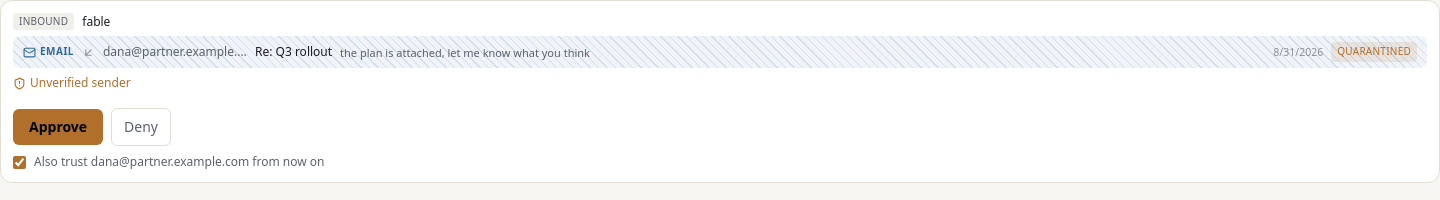
EmailApprovalRow — resolution is final › collapses to "Delivered" when the one-time pass was used
Step 1. Click the checkbox labelled "Also trust dana@partner.example.com from now on" → click(20, 162), box [13,156,26,168]
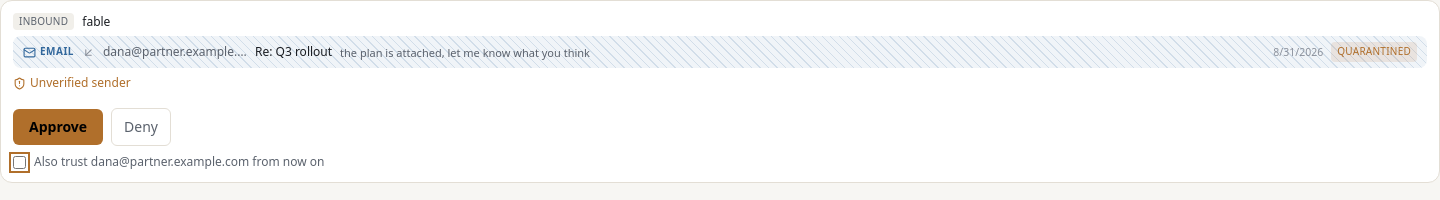
Step 2. Click the button "Approve" → click(58, 126), box [13,108,103,144]
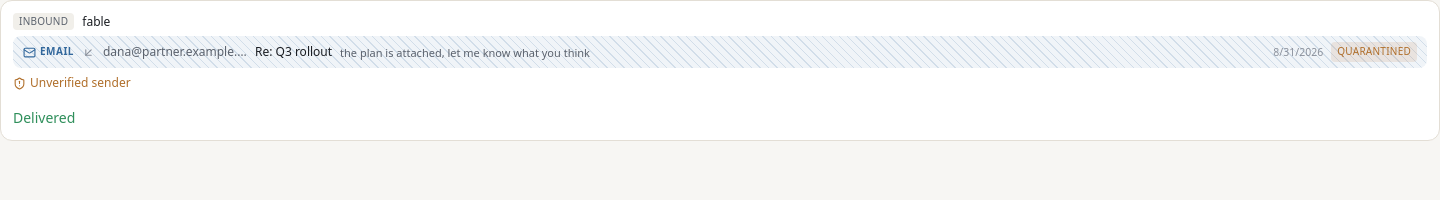
Expected: the message reads "Delivered", [13,108,75,126]
